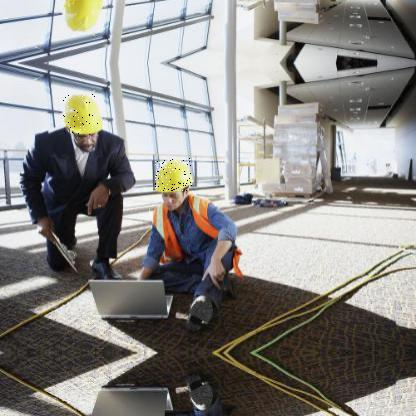safetyhelmet: (63, 95, 103, 136), (155, 158, 193, 192)
